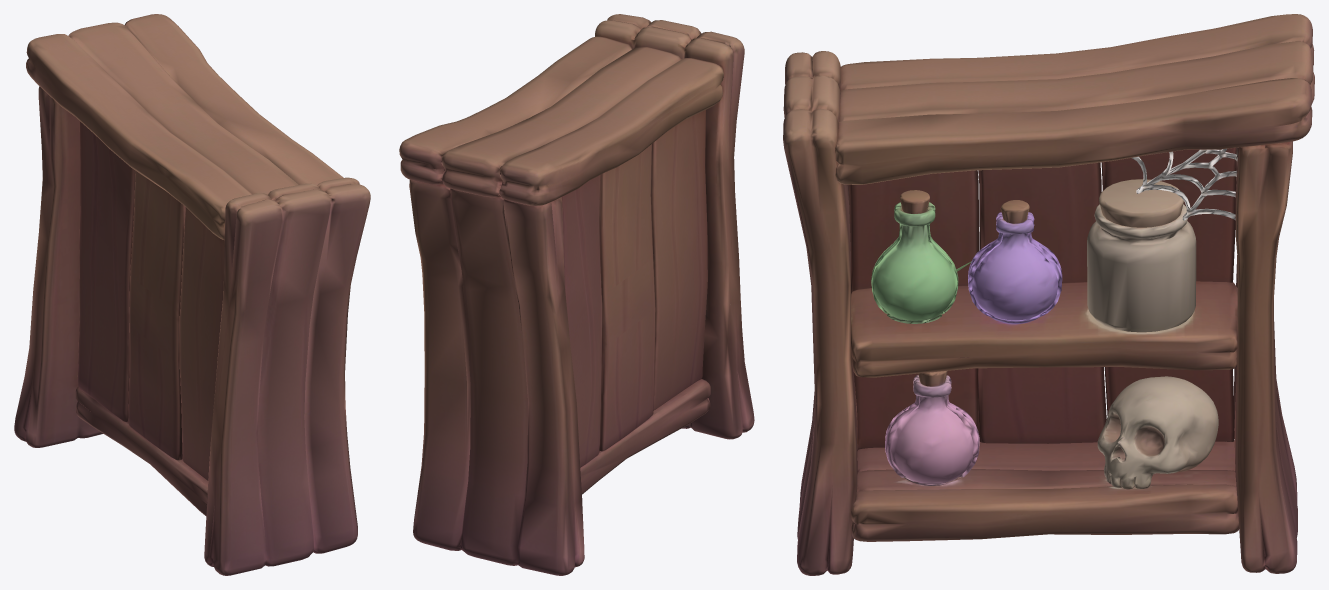
The model's file is H8_PotionShelf_LOD0.fbx.
3 views of the same model, side by side, from view 1: azimuth 30°, elevation 25°; view 2: azimuth 150°, elevation 25°; view 3: azimuth 270°, elevation 25° (orthographic). The views are drawn at different scales.
Parts seen in each view (by area): view 1: H8_PotionShelf_LOD0; view 2: H8_PotionShelf_LOD0; view 3: H8_PotionShelf_LOD0.
Part boxes in pixels (x1,y1,x2,y2): H8_PotionShelf_LOD0: (14,14,370,575); H8_PotionShelf_LOD0: (399,14,754,575); H8_PotionShelf_LOD0: (783,14,1314,575).
Size of the model in its own units: 0.6368 by 1.5 by 1.47.
1 material, 1 textured.
